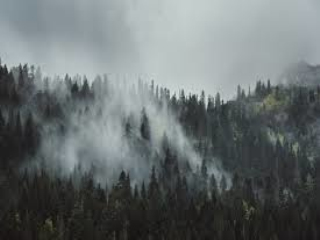smoke: (131, 97, 230, 187)
